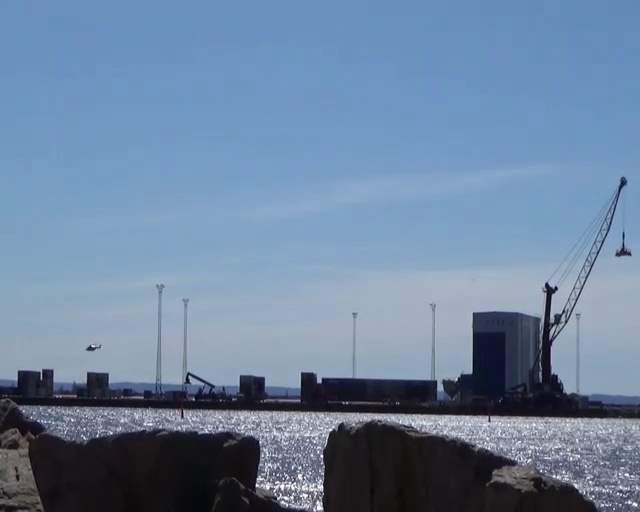HELICOPTER: (87, 342, 102, 351)
